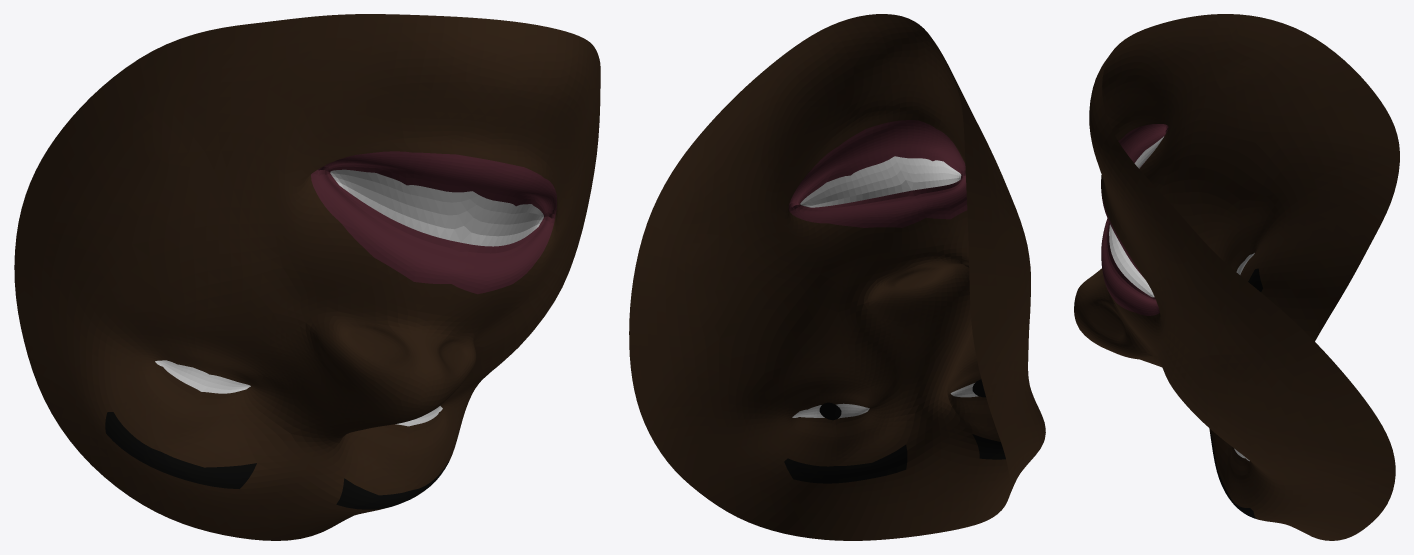
Rendered from confident.obj.
The picture shows the model from 3 angles, left to right: view 1: azimuth 30°, elevation 25°; view 2: azimuth 150°, elevation 25°; view 3: azimuth 270°, elevation 25°; orthographic projection. The views are drawn at different scales.
Visible parts, largest first — view 1: face_mesh_subdivided; view 2: face_mesh_subdivided; view 3: face_mesh_subdivided.
Part boxes in pixels (left/top/right/bottom): face_mesh_subdivided: left=14, top=14, right=600, bottom=540; face_mesh_subdivided: left=629, top=14, right=1045, bottom=540; face_mesh_subdivided: left=1074, top=14, right=1399, bottom=540.
Bounding box in the file's own units: 0.6533 × 0.7352 × 0.4491.
